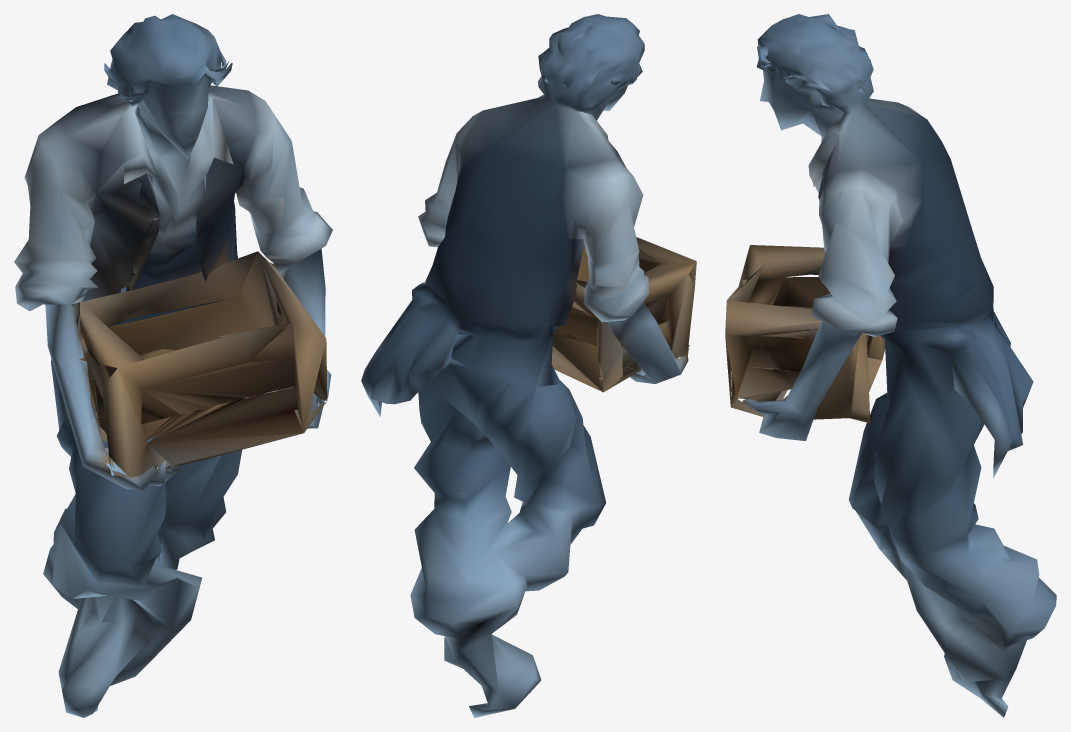
Rendered from ghost-delivery-far.glb.
3 renders of one model, left to right at view 1: azimuth 30°, elevation 25°; view 2: azimuth 150°, elevation 25°; view 3: azimuth 270°, elevation 25°, orthographic. The views are drawn at different scales.
Visible parts, largest first — view 1: body, item; view 2: body, item; view 3: body, item.
Part boxes in pixels (x1,y1,x2,y2): body: (14,14,332,717); item: (77,251,327,477); body: (361,14,688,717); item: (551,237,696,392); body: (741,14,1056,717); item: (725,245,885,423).
Bounding box in the file's own units: 0.7321 × 1.9 × 0.8395.
